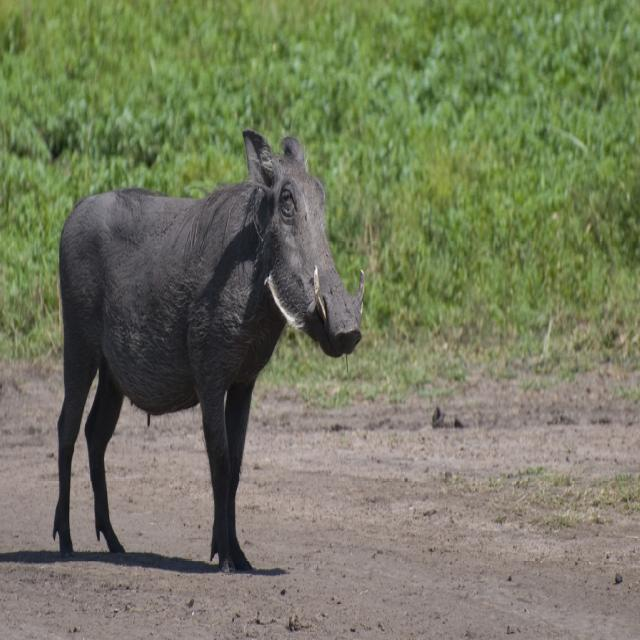Pig: (53, 128, 364, 574)
